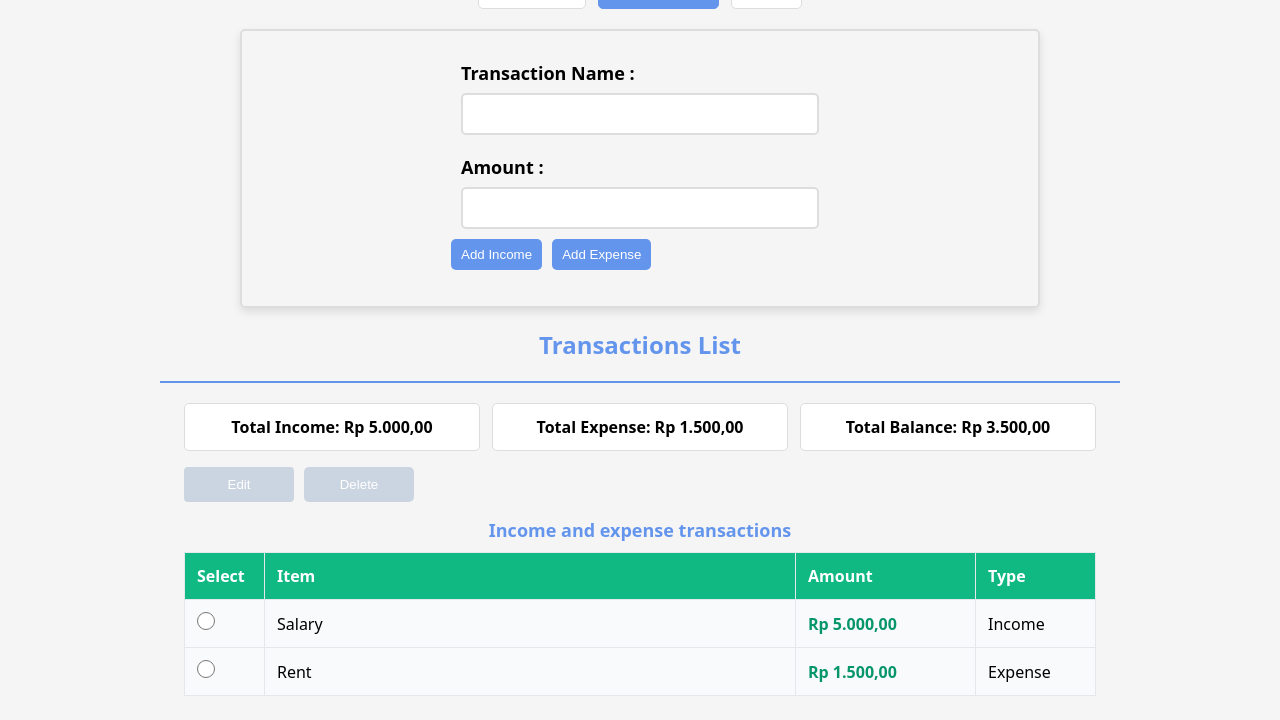
opens a populated edit modal without sending an update request
(page scrolled)
Check: the text "Salary" is shown, box [264,600,796,648]
Check: the text "Rent" is shown, box [264,648,796,696]
Step 1. Click the radio button named "select income salary" next to "Salary" → (206, 621), box [197,612,215,630]
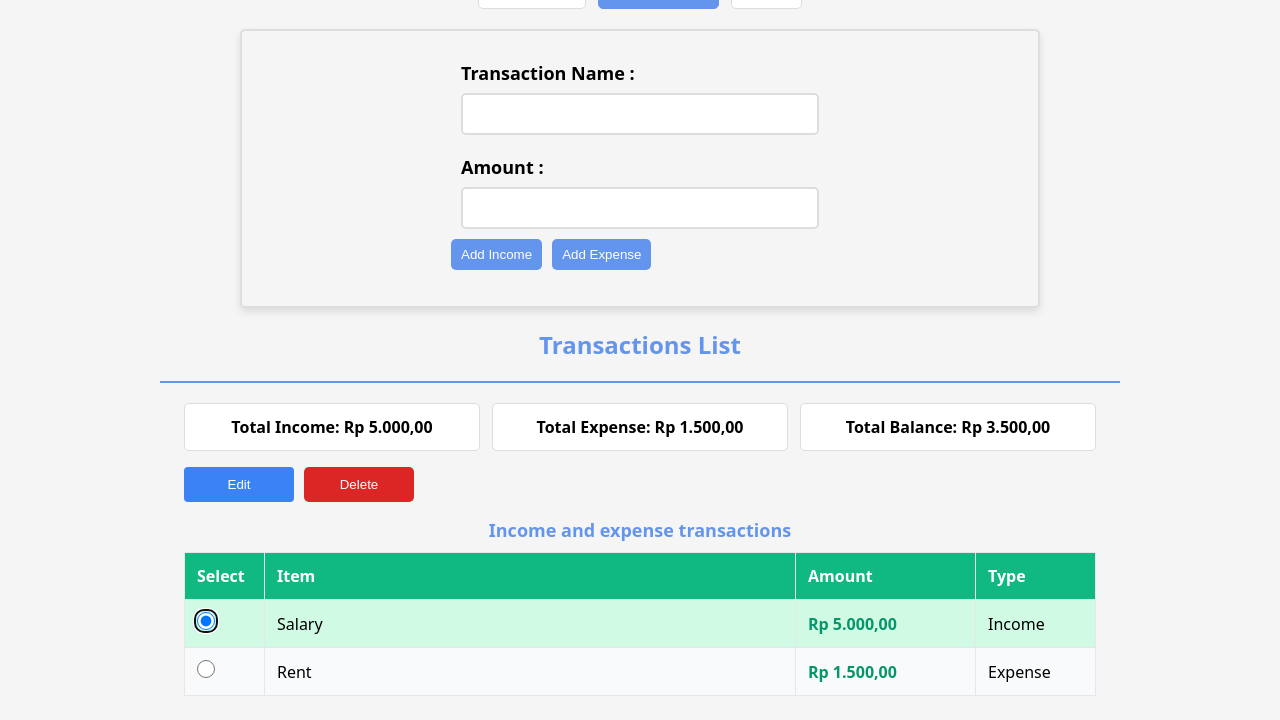
Step 2. Click the button "Edit" → (239, 484), box [184,467,294,502]
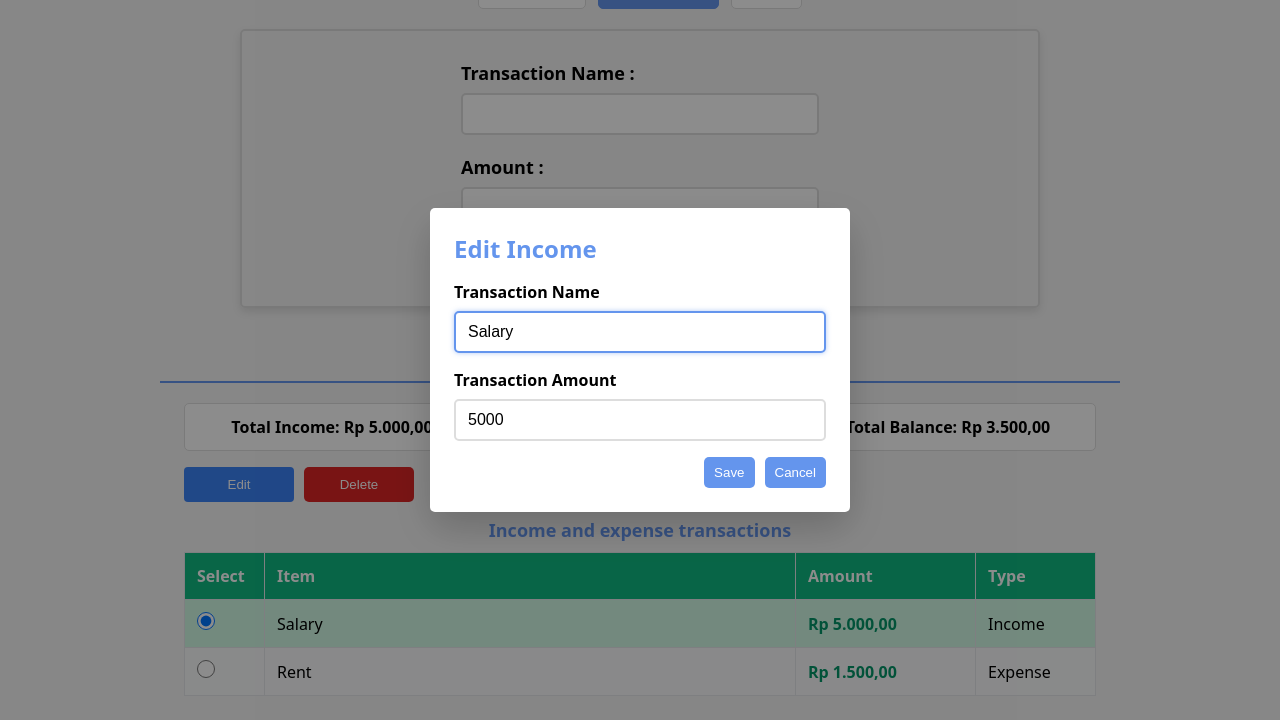
Check: the dialog "Edit Income Transaction Name Transaction Amount Save Cancel" is shown, box [430,208,850,512]
Check: the field labelled "Transaction Name" holds "Salary", box [454,311,826,353]
Check: the number field labelled "Transaction Amount" holds "5000", box [454,399,826,441]
